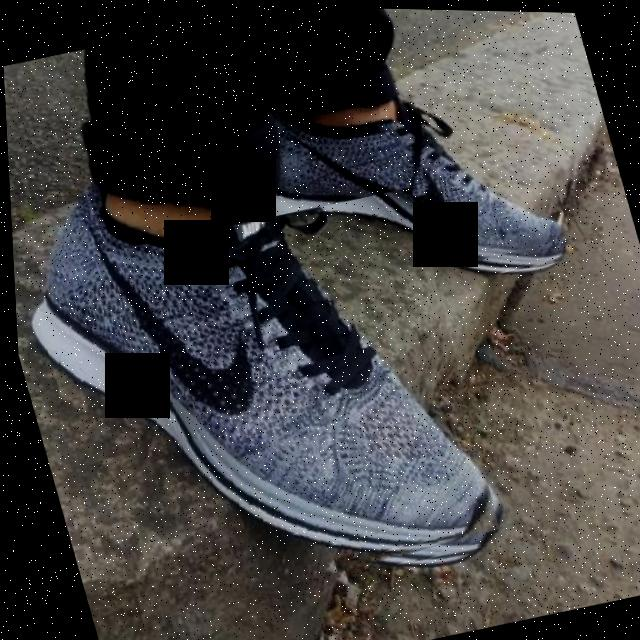shoe: (17, 178, 511, 636), (258, 58, 573, 304)
